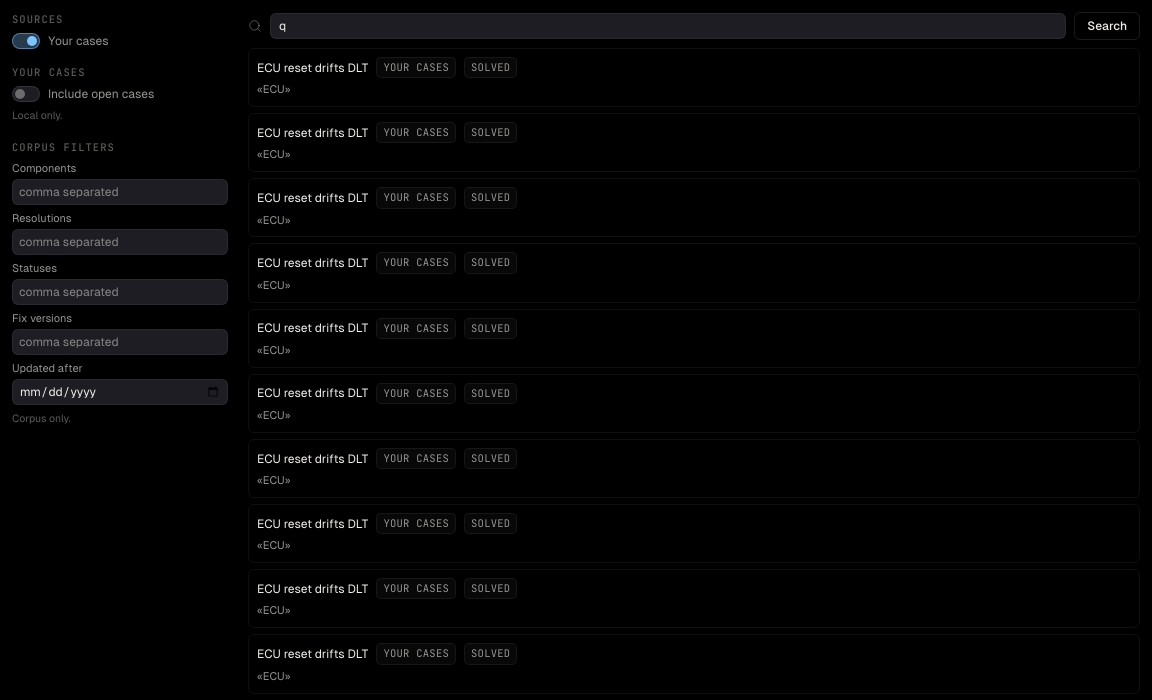
Test case: RelatedHistoryExplorer › drops the previous search's hits and show-more control when a later search fails
The image size is (1152, 700).
Step 1. Replace the text in the field named "Search related history" with "battery soc" → (668, 26), box [270, 13, 1066, 39]
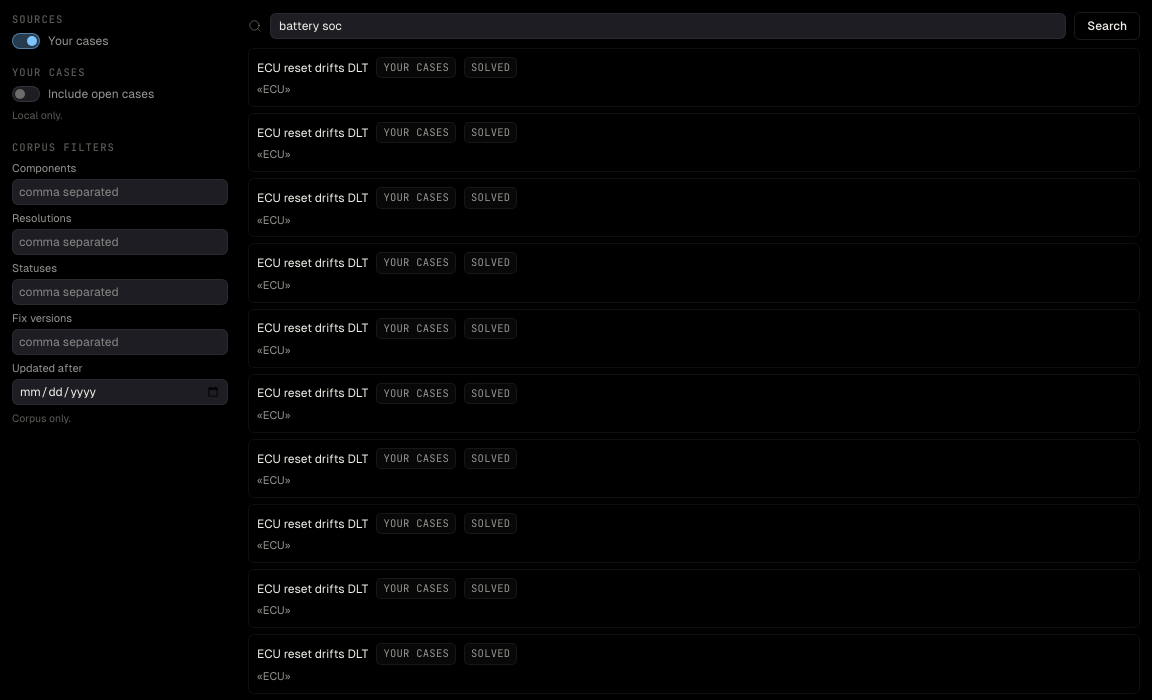
Step 2. Submit the form, box [248, 12, 1140, 40]
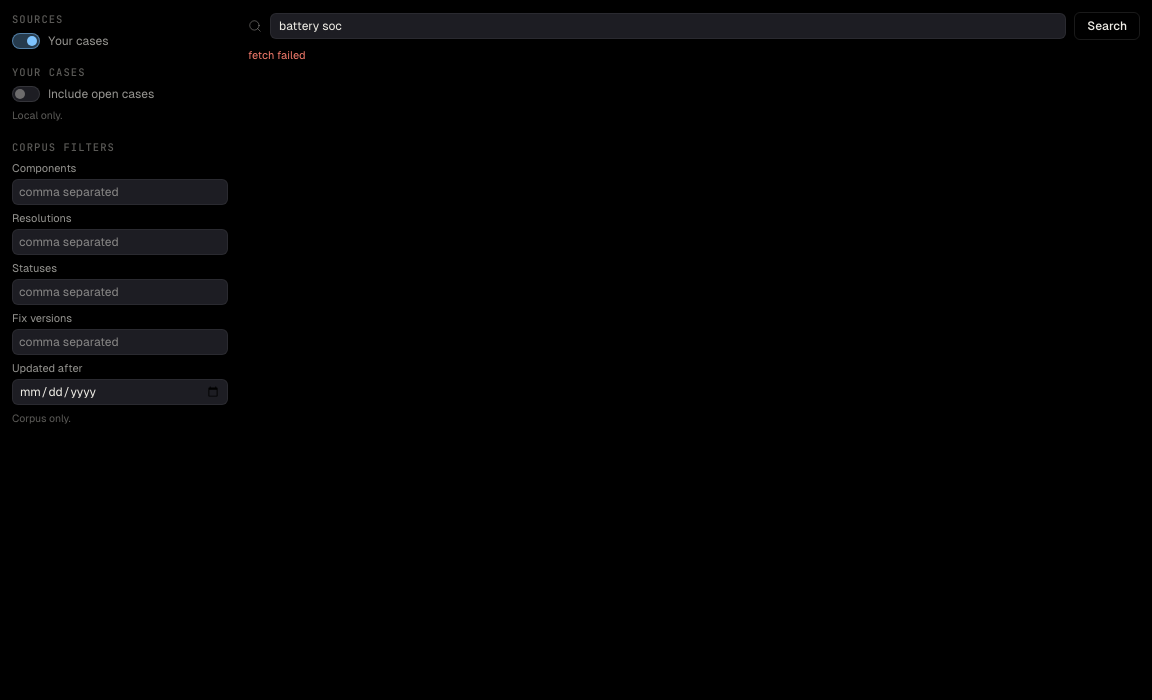
Check: the text "fetch failed" is shown, box [248, 49, 306, 61]
Check: the button "ECU reset drifts DLT" is gone
